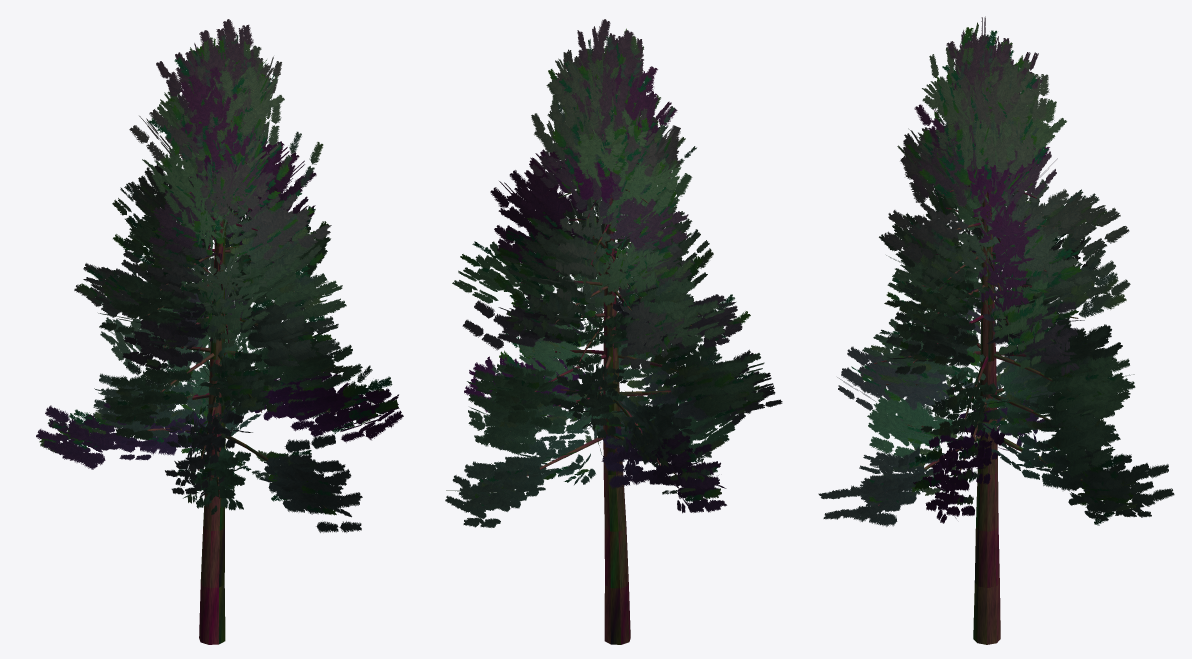
The model's file is nat_pine_b_LOD0.glb.
3 renders of one model, left to right at view 1: azimuth 30°, elevation 25°; view 2: azimuth 150°, elevation 25°; view 3: azimuth 270°, elevation 25°, orthographic.
Parts seen in each view (by area): view 1: nat_pine_b_LOD0; view 2: nat_pine_b_LOD0; view 3: nat_pine_b_LOD0.
Part boxes in pixels (bbox=[...]): nat_pine_b_LOD0: bbox=[36, 19, 403, 644]; nat_pine_b_LOD0: bbox=[445, 19, 782, 644]; nat_pine_b_LOD0: bbox=[818, 16, 1174, 644].
Bounding box in the file's own units: 5.52 × 9.96 × 5.24.
2 materials, 2 textured.
